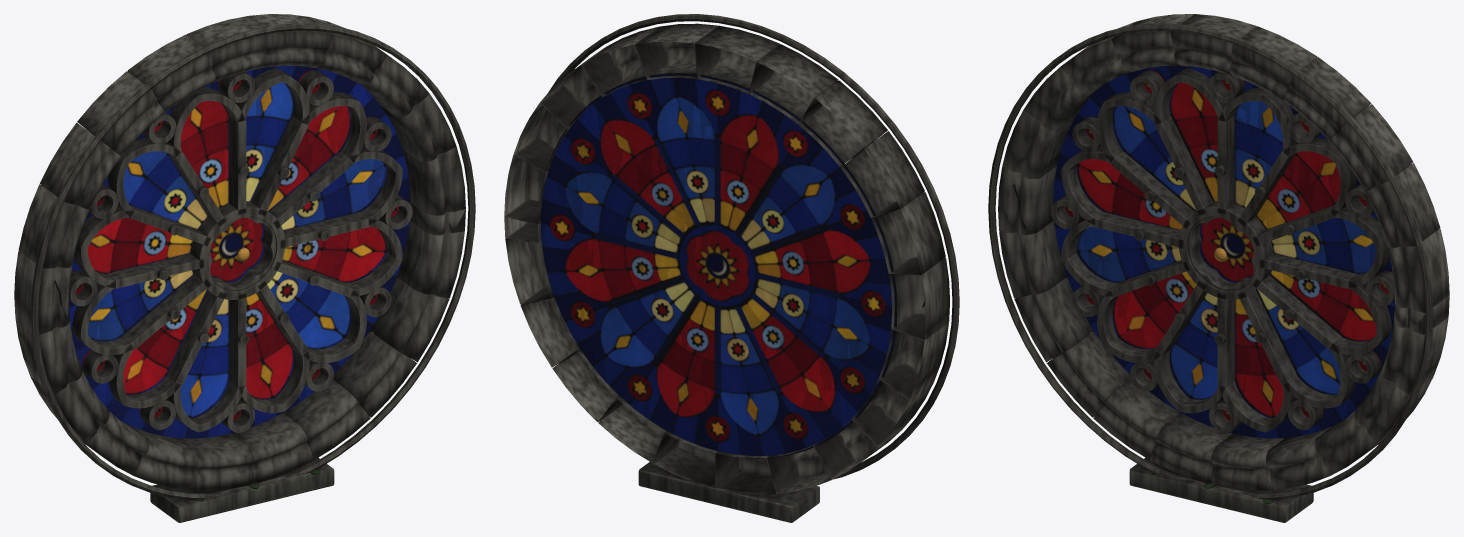
File: RoseWindow.fbx
3 renders of one model, left to right at view 1: azimuth 30°, elevation 25°; view 2: azimuth 150°, elevation 25°; view 3: azimuth 330°, elevation 25°, orthographic.
Visible parts, largest first — view 1: RoseWindow_Main, RoseWindow_Stained; view 2: RoseWindow_Stained, RoseWindow_Main; view 3: RoseWindow_Main, RoseWindow_Stained.
Boxes of the visible parts, bbox=[...] form: RoseWindow_Main: bbox=[14, 14, 475, 522]; RoseWindow_Stained: bbox=[69, 65, 410, 438]; RoseWindow_Stained: bbox=[540, 73, 897, 458]; RoseWindow_Main: bbox=[504, 14, 959, 522]; RoseWindow_Main: bbox=[988, 14, 1449, 522]; RoseWindow_Stained: bbox=[1053, 65, 1394, 438].
Bounding box in the file's own units: 964 × 982 × 115.
